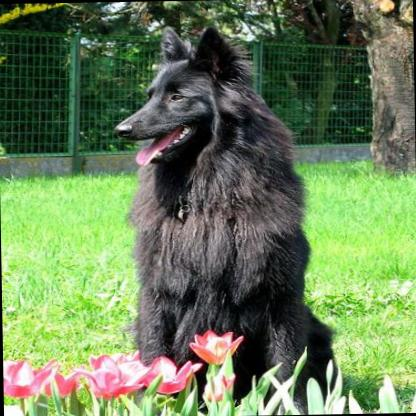groenendael: (106, 15, 338, 410)
